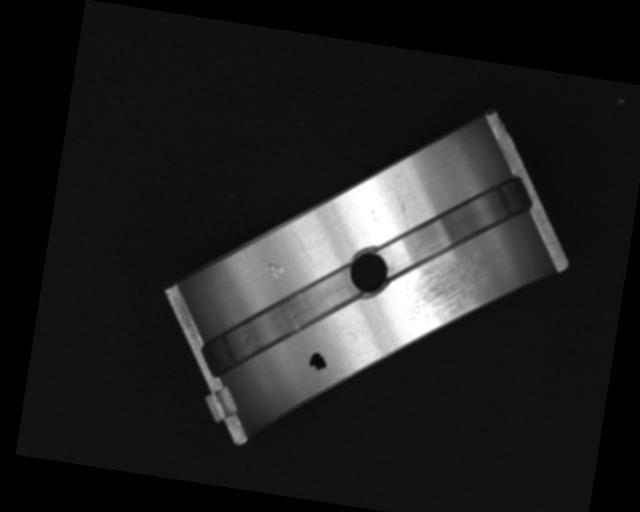blot: (306, 350, 330, 374)
bruise: (263, 260, 286, 280)
gap: (205, 251, 361, 391), (382, 157, 535, 286)
hole: (344, 247, 394, 298)
nick: (389, 182, 414, 232), (289, 233, 318, 264)
scratch: (402, 251, 494, 334)
